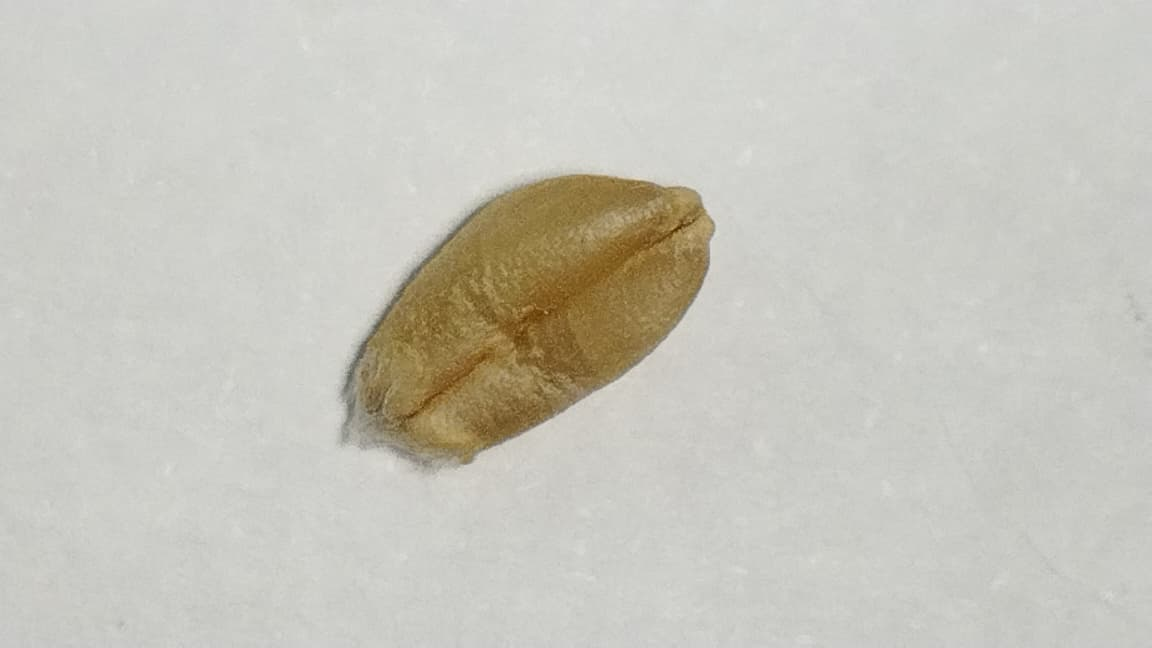healthy: (348, 175, 713, 462)
